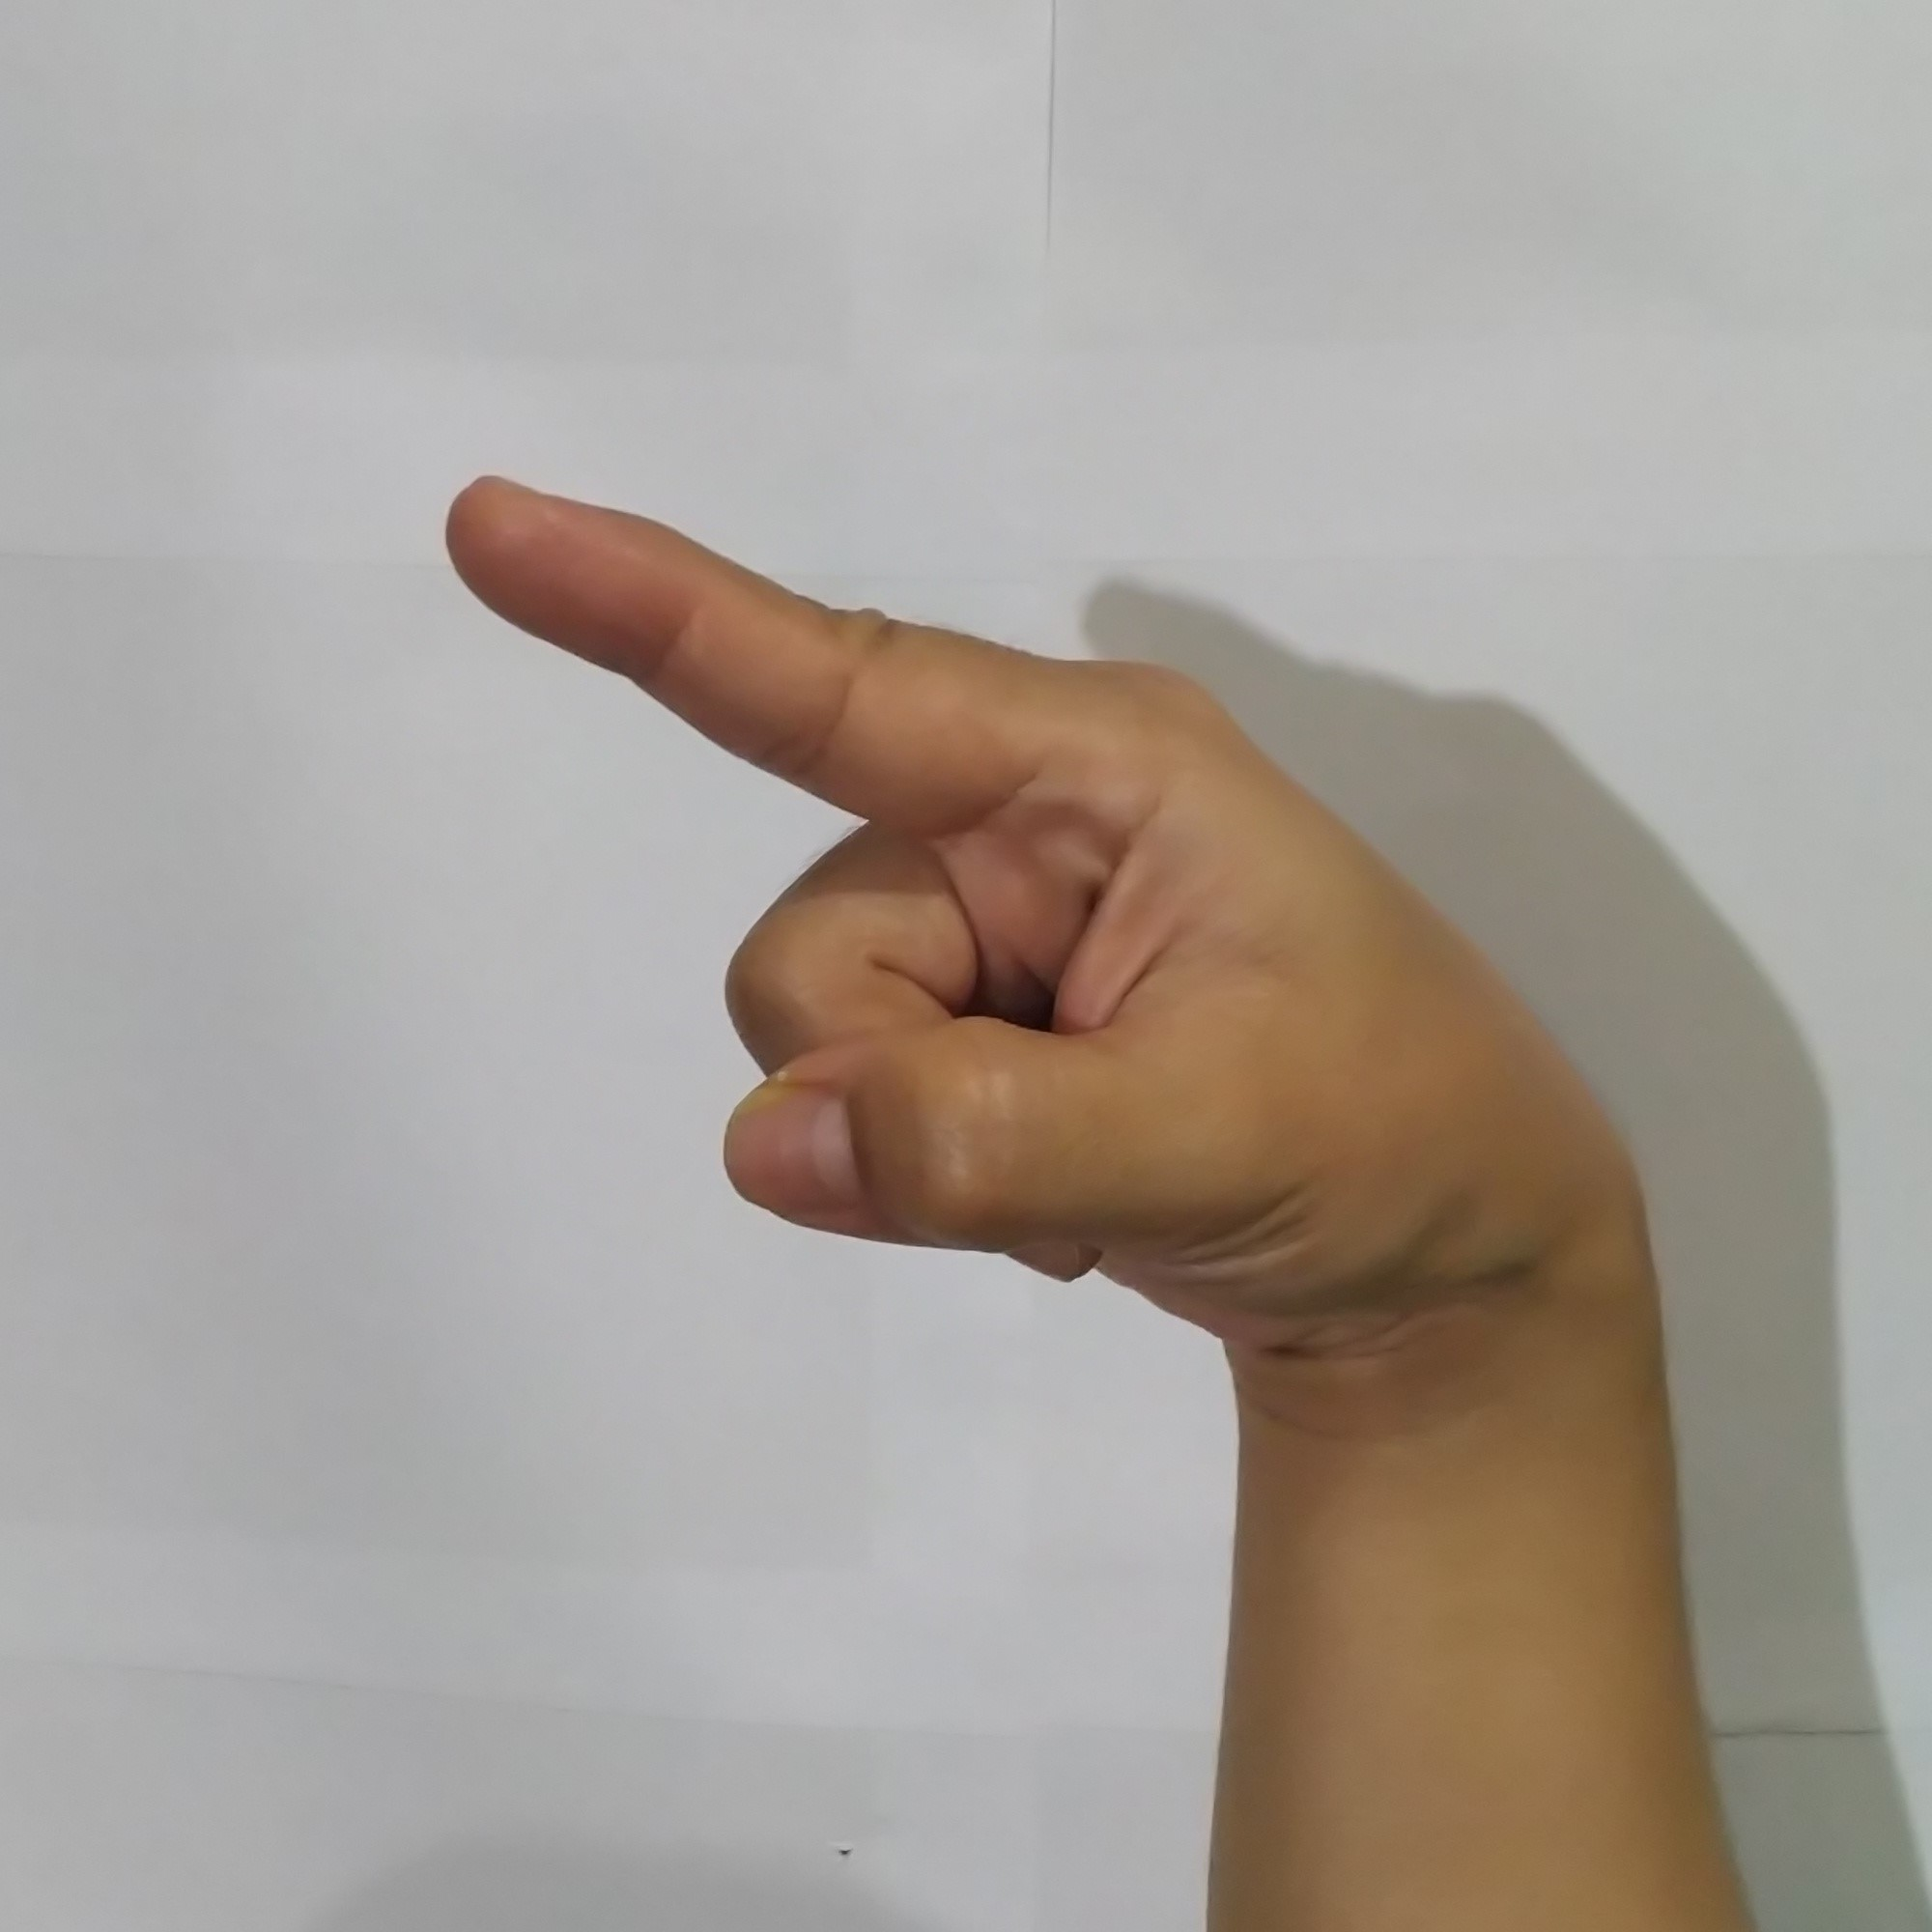Z: (410, 441, 1661, 1350)
